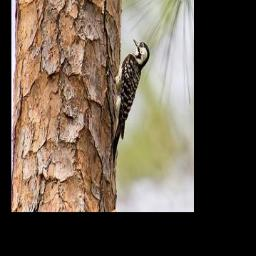Woodpecker: (106, 38, 150, 167)
